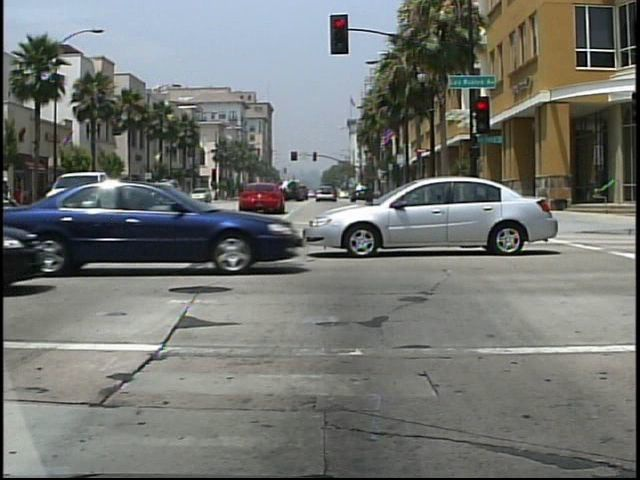person: (2, 172, 19, 227)
